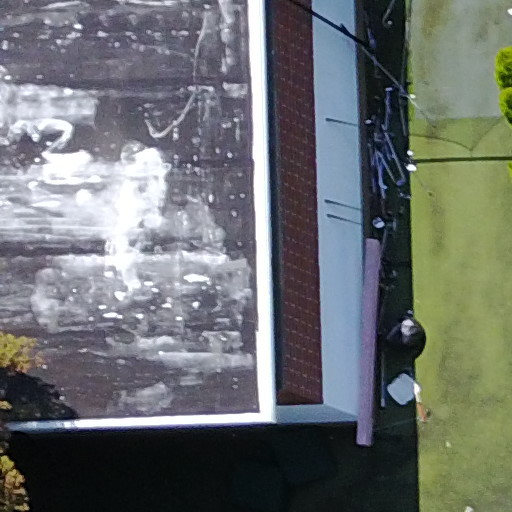clutter: (350, 5, 429, 464)
